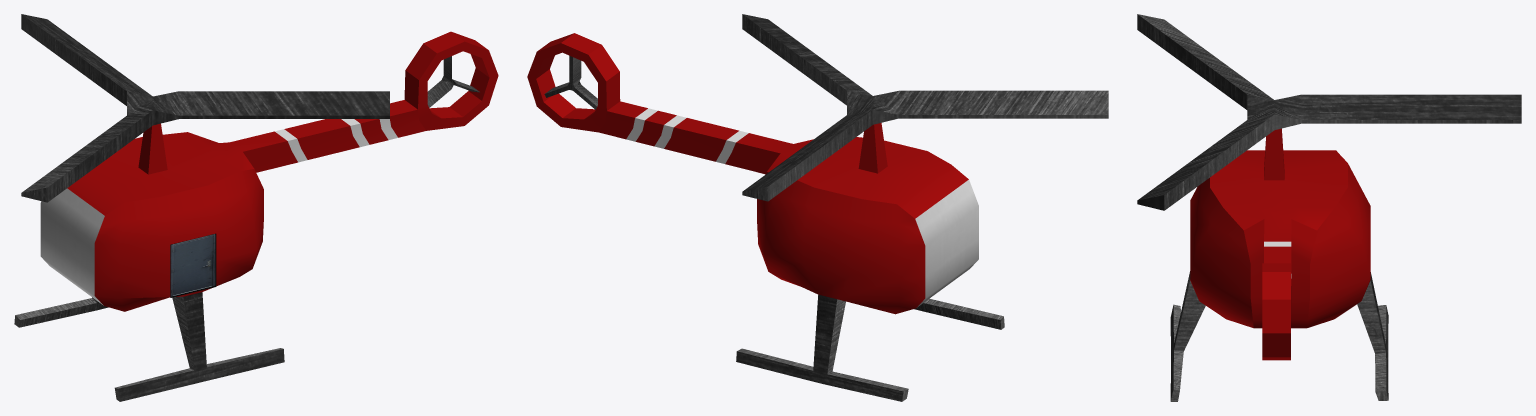
Rendered from Helicopter.fbx.
3 views of the same model, side by side, from view 1: azimuth 30°, elevation 25°; view 2: azimuth 150°, elevation 25°; view 3: azimuth 270°, elevation 25° (orthographic). The views are drawn at different scales.
Visible parts, largest first — view 1: polySurface4; view 2: polySurface4; view 3: polySurface4.
Boxes of the visible parts, bbox=[...] form: polySurface4: bbox=[14, 14, 498, 401]; polySurface4: bbox=[527, 14, 1108, 401]; polySurface4: bbox=[1137, 14, 1521, 401].
Size of the model in its own units: 22.15 by 10.03 by 13.49.
5 materials, 3 textured.
